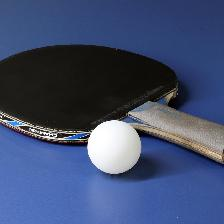WhiteBall: (86, 120, 140, 173)
